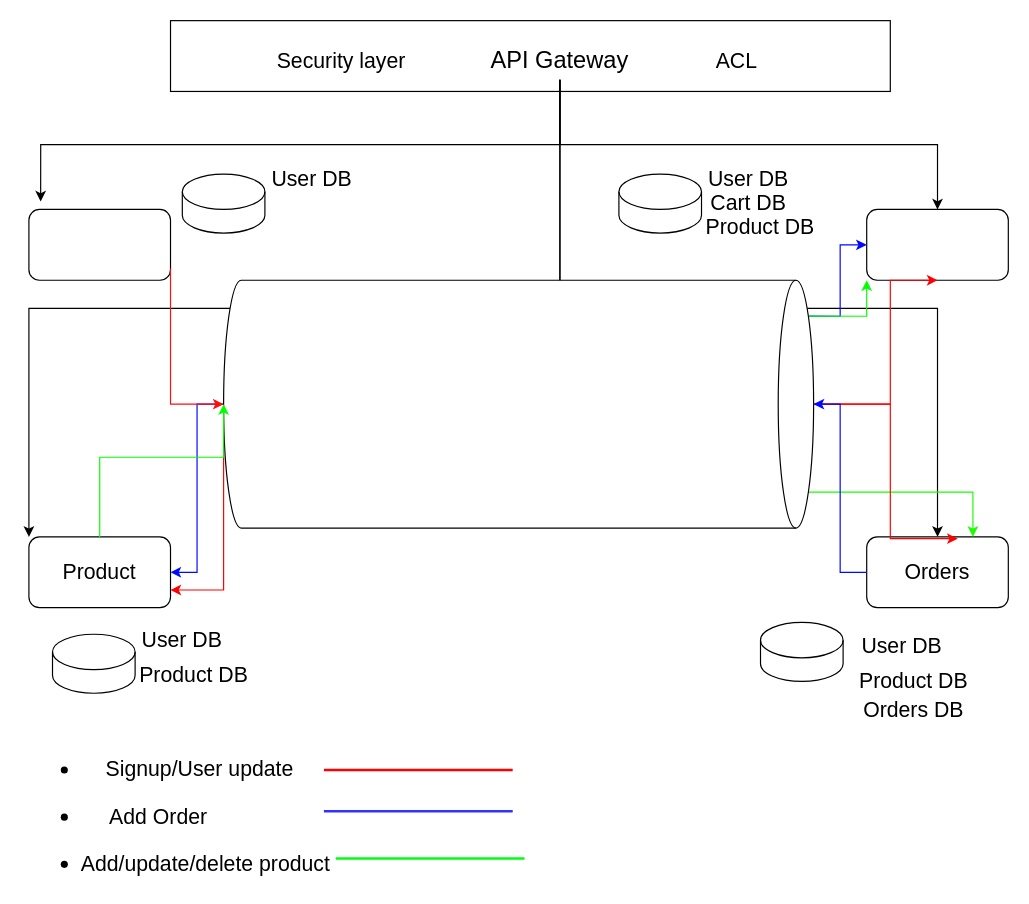
Image size: 1029x904. Some labels were removed from this diagram. The shapes that lost their labels are listed below. From the top down, each one's centre as x and y in pixels, then its label:
pixel 99 244: Auth/User
pixel 937 244: Cart
